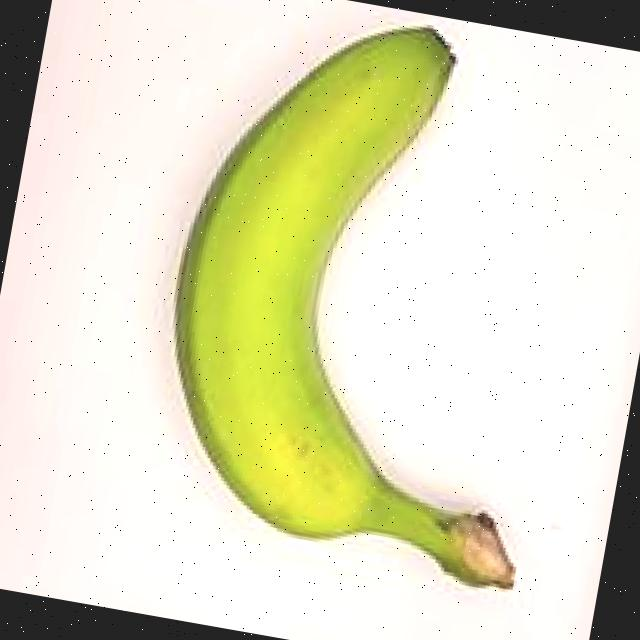Unripe: (122, 0, 613, 606)
